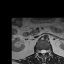CCS_normal: (42, 48, 44, 56)
LFS_normal: (46, 48, 48, 54)
LLS_normal: (44, 48, 46, 55)
RFS_normal: (38, 48, 40, 54)
RLS_normal: (40, 48, 42, 54)
